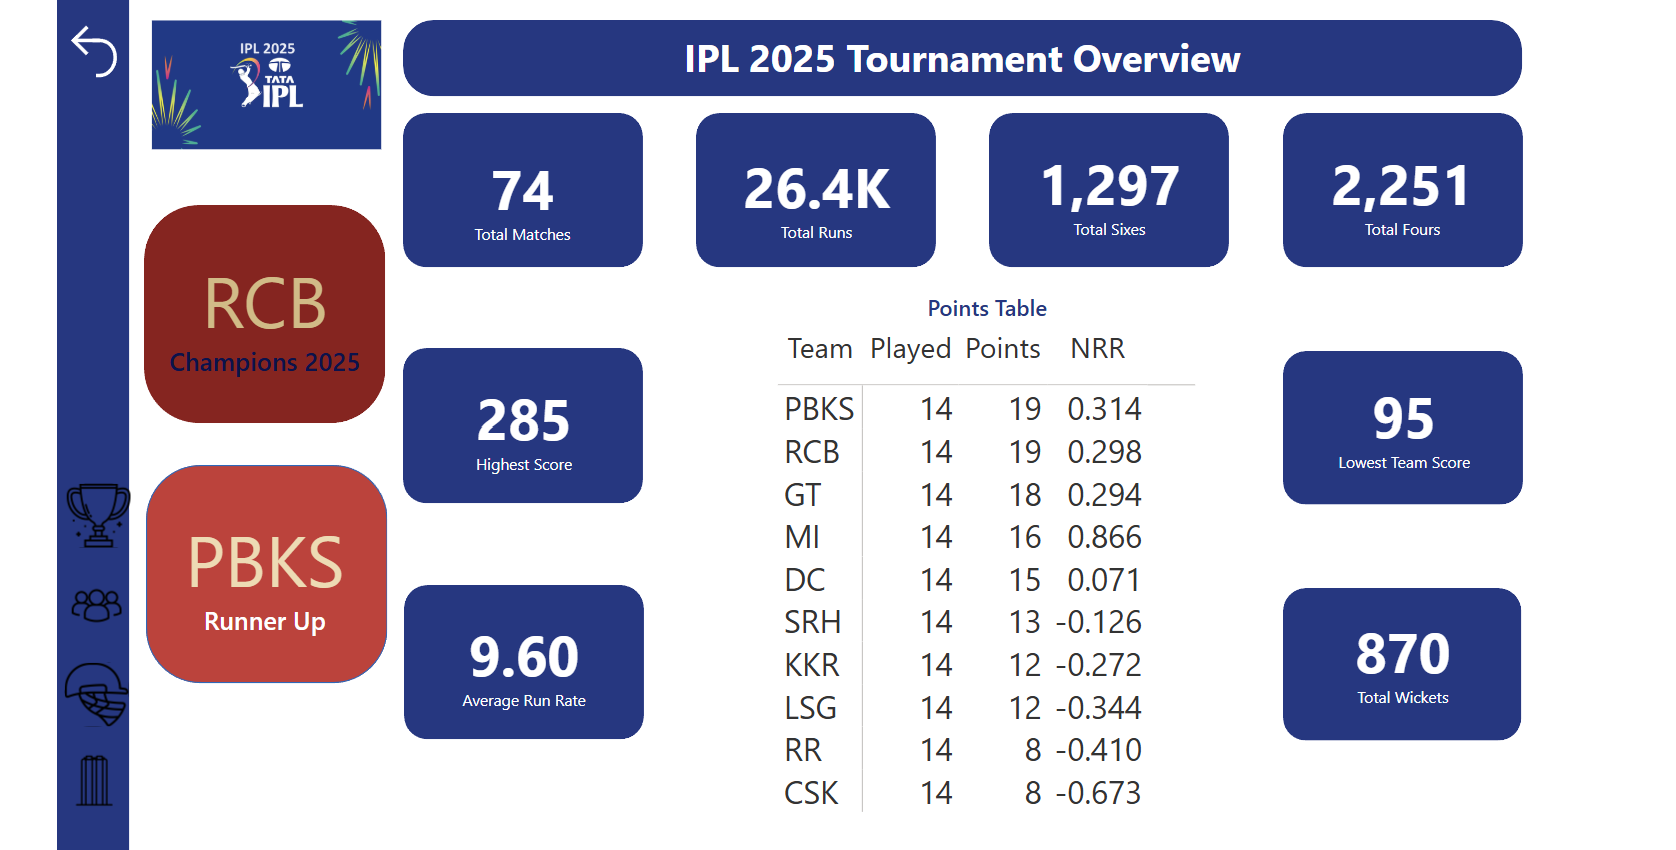

The dashboard page shown, as its layout file describes it:
{"tool":"powerbi","page":{"name":"Tournament Overview","canvas":[1280,720],"ordinal":0},"visuals":[{"type":"shape","box":[292.6,97,203,130.5],"z":0},{"type":"card","fields":{"Values":["Measures Table.Total Matches"]},"box":[315.1,101.5,158.2,134.5],"z":1000},{"type":"shape","box":[540.7,97,203,130.5],"z":2000},{"type":"card","fields":{"Values":["Measures Table.Total Runs"]},"box":[563.1,100,158.2,134.5],"z":3000},{"type":"shape","box":[788.8,97,203,130.5],"z":4000},{"type":"card","fields":{"Values":["Measures Table.Total Sixes"]},"box":[811.2,97,158.2,134.5],"z":5000},{"type":"shape","box":[1036.9,97,203,130.5],"z":6000},{"type":"card","fields":{"Values":["Measures Table.Total Fours"]},"box":[1059.3,97,158.2,134.5],"z":7000},{"type":"shape","box":[1037.4,498.3,201.7,129.2],"z":8000},{"type":"card","fields":{"Values":["Measures Table.Total Wickets"]},"box":[1059.3,492.8,159,134.8],"z":9000},{"type":"shape","box":[1036.9,298.3,203,129.2],"z":10000},{"type":"shape","box":[292.6,296.3,203,130.5],"z":11000},{"type":"card","fields":{"Values":["Measures Table.Highest Score"]},"box":[308.5,300.6,172.7,123.9],"z":12000},{"type":"card","fields":{"Values":["Measures Table.Lowest Team Score"]},"box":[1059.9,294,159.5,134.5],"z":13000},{"type":"pivotTable","title":"Points Table","fields":{"Rows":["TeamTotalsTable.batting_team"],"Values":["Measures Table.Group Stage matches","Measures Table.Total Points","Measures Table.NRR","Measures Table.TeamRank"]},"box":[604.8,248.8,364,467.7],"z":14000},{"type":"shape","box":[294,495.7,203,130.5],"z":15000},{"type":"card","fields":{"Values":["Measures Table.Average Run Rate"]},"box":[308.5,499.6,172.7,123.9],"z":16000},{"type":"image","box":[74.9,0,203.9,146.3],"z":17000},{"type":"shape","box":[292.6,18.4,946.9,64.5],"z":18000},{"type":"textbox","box":[357.1,23,817.9,55.3],"z":19000},{"type":"shape","box":[73.8,175.3,204.3,184.6],"z":20000},{"type":"shape","box":[75.1,394.2,204.3,184.6],"z":21000},{"type":"card","fields":{"Values":["Measures Table.Champions"]},"box":[26.4,117.3,299.2,299.2],"z":22000},{"type":"card","fields":{"Values":["Measures Table.Runner Up"]},"box":[26.4,336.1,299.2,299.2],"z":23000},{"type":"shape","box":[0,0,61.1,720],"z":24000},{"type":"actionButton","box":[2.6,482.5,85.7,62],"z":25000},{"type":"actionButton","box":[2.6,557.6,85.7,62],"z":26000},{"type":"actionButton","box":[0,631.4,85.7,62],"z":27000},{"type":"actionButton","box":[4,406,85.7,62],"z":28000},{"type":"actionButton","box":[3.5,17.3,61.1,56.4],"z":29000}]}

Visuals, with their boxes on the page's 1280x720 design canvas (x1, y1, x2, y2). These are canvas units, not pixel positions in the 1676x850 screenshot, which may show the page scaled, cropped or inside an application window:
shape: <bbox>293, 97, 496, 228</bbox>
card - Measures Table.Total Matches: <bbox>315, 102, 473, 236</bbox>
shape: <bbox>541, 97, 744, 228</bbox>
card - Measures Table.Total Runs: <bbox>563, 100, 721, 234</bbox>
shape: <bbox>789, 97, 992, 228</bbox>
card - Measures Table.Total Sixes: <bbox>811, 97, 969, 232</bbox>
shape: <bbox>1037, 97, 1240, 228</bbox>
card - Measures Table.Total Fours: <bbox>1059, 97, 1218, 232</bbox>
shape: <bbox>1037, 498, 1239, 628</bbox>
card - Measures Table.Total Wickets: <bbox>1059, 493, 1218, 628</bbox>
shape: <bbox>1037, 298, 1240, 428</bbox>
shape: <bbox>293, 296, 496, 427</bbox>
card - Measures Table.Highest Score: <bbox>308, 301, 481, 424</bbox>
card - Measures Table.Lowest Team Score: <bbox>1060, 294, 1219, 428</bbox>
"Points Table" pivotTable: <bbox>605, 249, 969, 716</bbox>
shape: <bbox>294, 496, 497, 626</bbox>
card - Measures Table.Average Run Rate: <bbox>308, 500, 481, 624</bbox>
image: <bbox>75, 0, 279, 146</bbox>
shape: <bbox>293, 18, 1240, 83</bbox>
textbox: <bbox>357, 23, 1175, 78</bbox>
shape: <bbox>74, 175, 278, 360</bbox>
shape: <bbox>75, 394, 279, 579</bbox>
card - Measures Table.Champions: <bbox>26, 117, 326, 416</bbox>
card - Measures Table.Runner Up: <bbox>26, 336, 326, 635</bbox>
shape: <bbox>0, 0, 61, 720</bbox>
actionButton: <bbox>3, 482, 88, 544</bbox>
actionButton: <bbox>3, 558, 88, 620</bbox>
actionButton: <bbox>0, 631, 86, 693</bbox>
actionButton: <bbox>4, 406, 90, 468</bbox>
actionButton: <bbox>4, 17, 65, 74</bbox>
